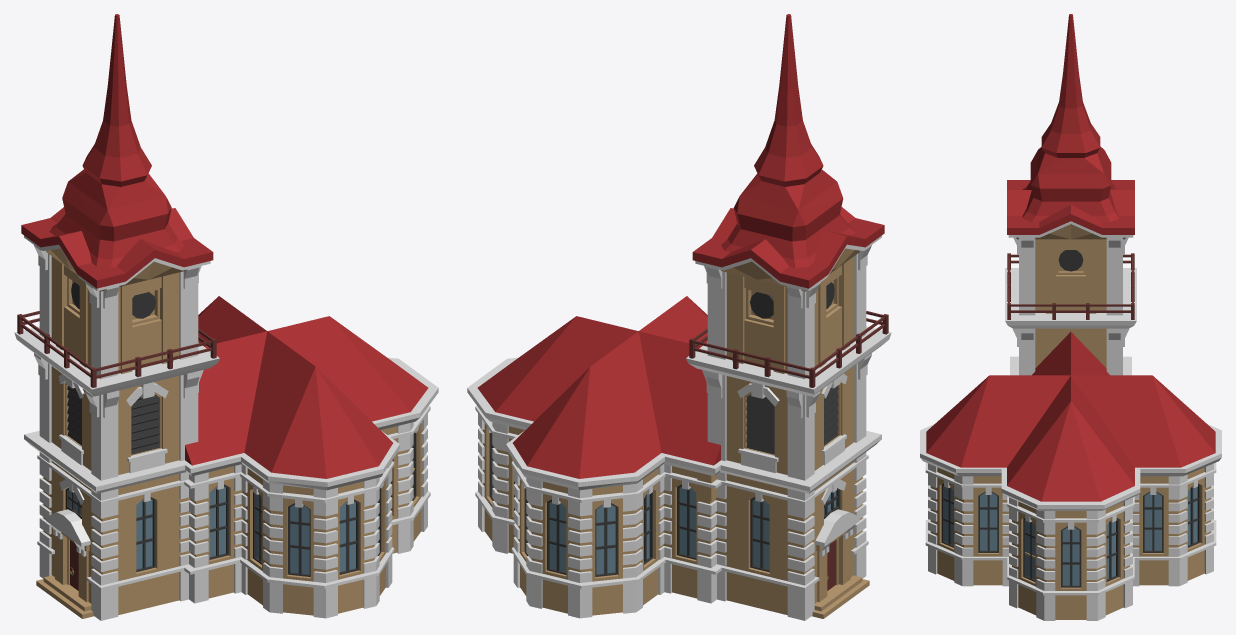
The model's file is church01.fbx.
3 views of the same model, side by side, from view 1: azimuth 30°, elevation 25°; view 2: azimuth 150°, elevation 25°; view 3: azimuth 270°, elevation 25° (orthographic). The views are drawn at different scales.
Visible parts, largest first — view 1: _church; view 2: _church; view 3: _church.
Part boxes in pixels (x1,y1,x2,y2): _church: (14, 14, 438, 620); _church: (467, 14, 891, 620); _church: (920, 14, 1221, 620).
Size of the model in its own units: 206 by 309 by 174.
